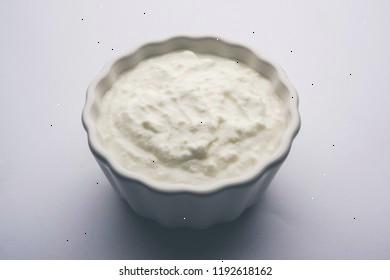yogurt: (89, 53, 294, 189)
